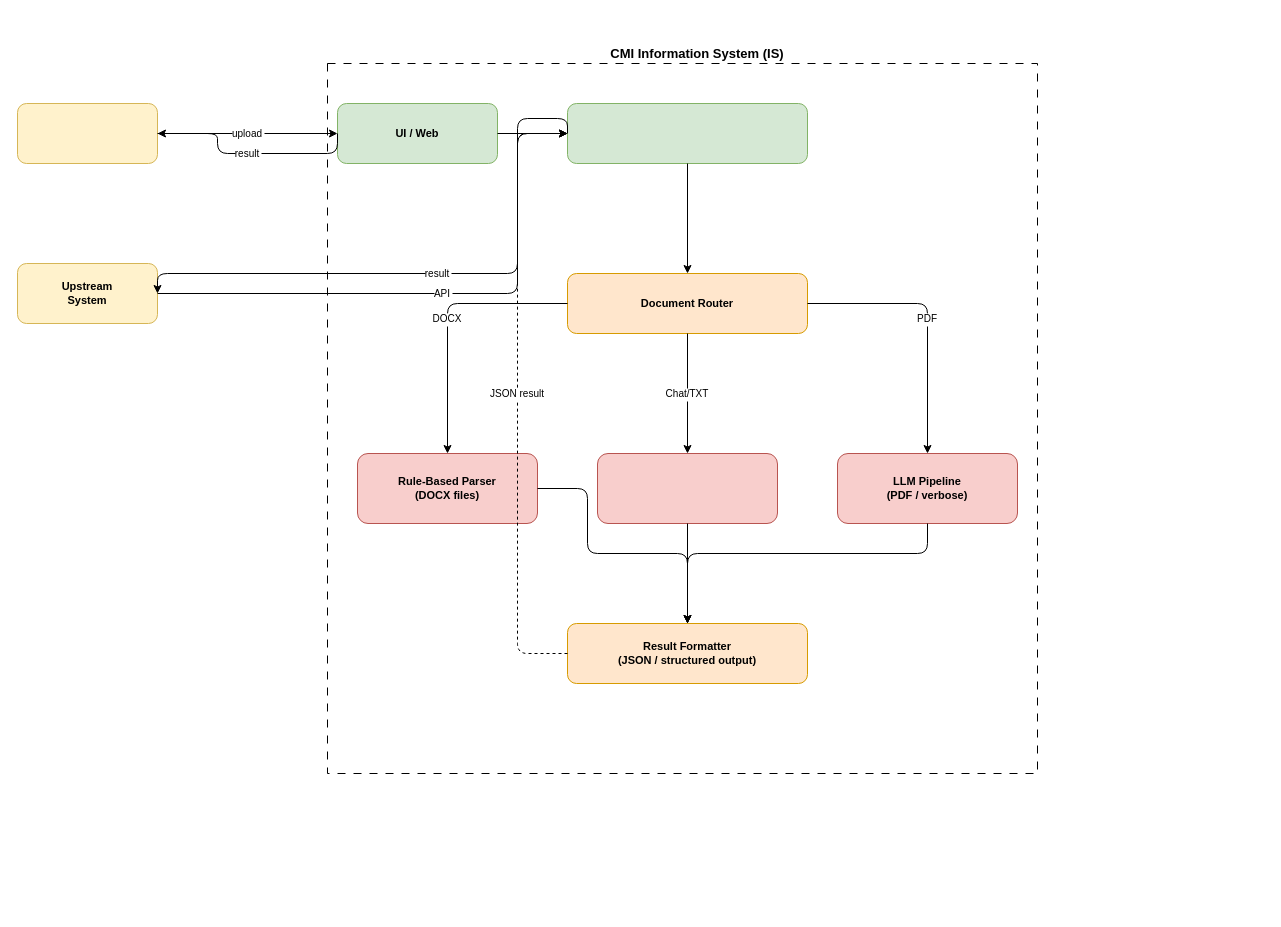
The diagram is 1281 pixels wide and 927 high, and some of its shapes have lost their labels. The shapes that lost their labels are listed below. From the top down, each one's centre as x and y in pixels, then its label:
[87,133]: End User (Browser)
[687,133]: API Gateway (FastAPI / REST )
[687,488]: NER Model (HuggingFace) (Chat / TXT)
